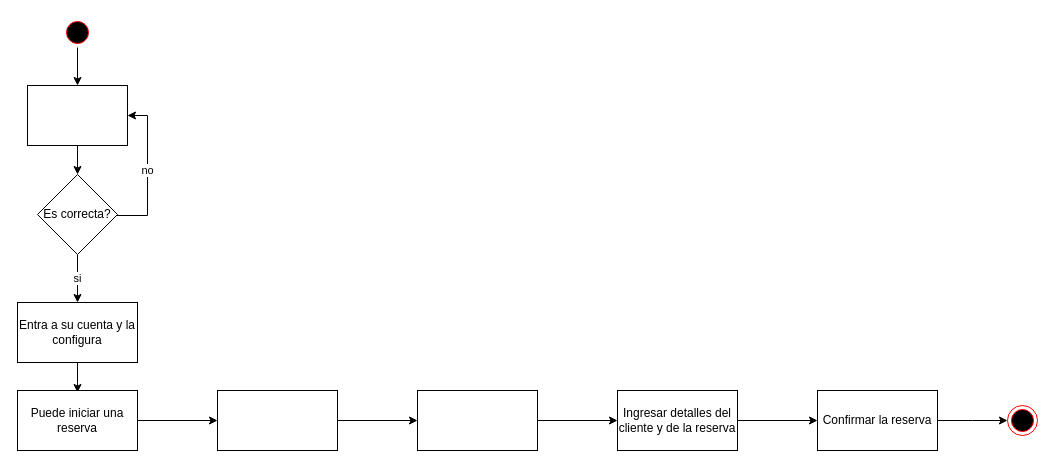
Image size: 1055x468. Some labels were removed from this diagram. The box of each missing label's shape, as (x1, y1, x2, y2) in pixels:
El cliente mete el usuario y la contraseña: (26, 84, 128, 146)
Selecciona el sitio en el que quiere reservar: (216, 390, 338, 450)
Selecciona fecha y hora de la reserva: (416, 390, 538, 450)
